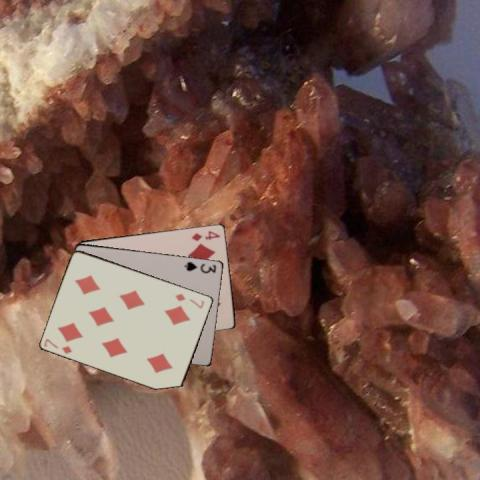3s: (182, 258, 218, 274)
4d: (189, 227, 221, 243)
7d: (41, 336, 74, 356), (172, 291, 206, 310)
